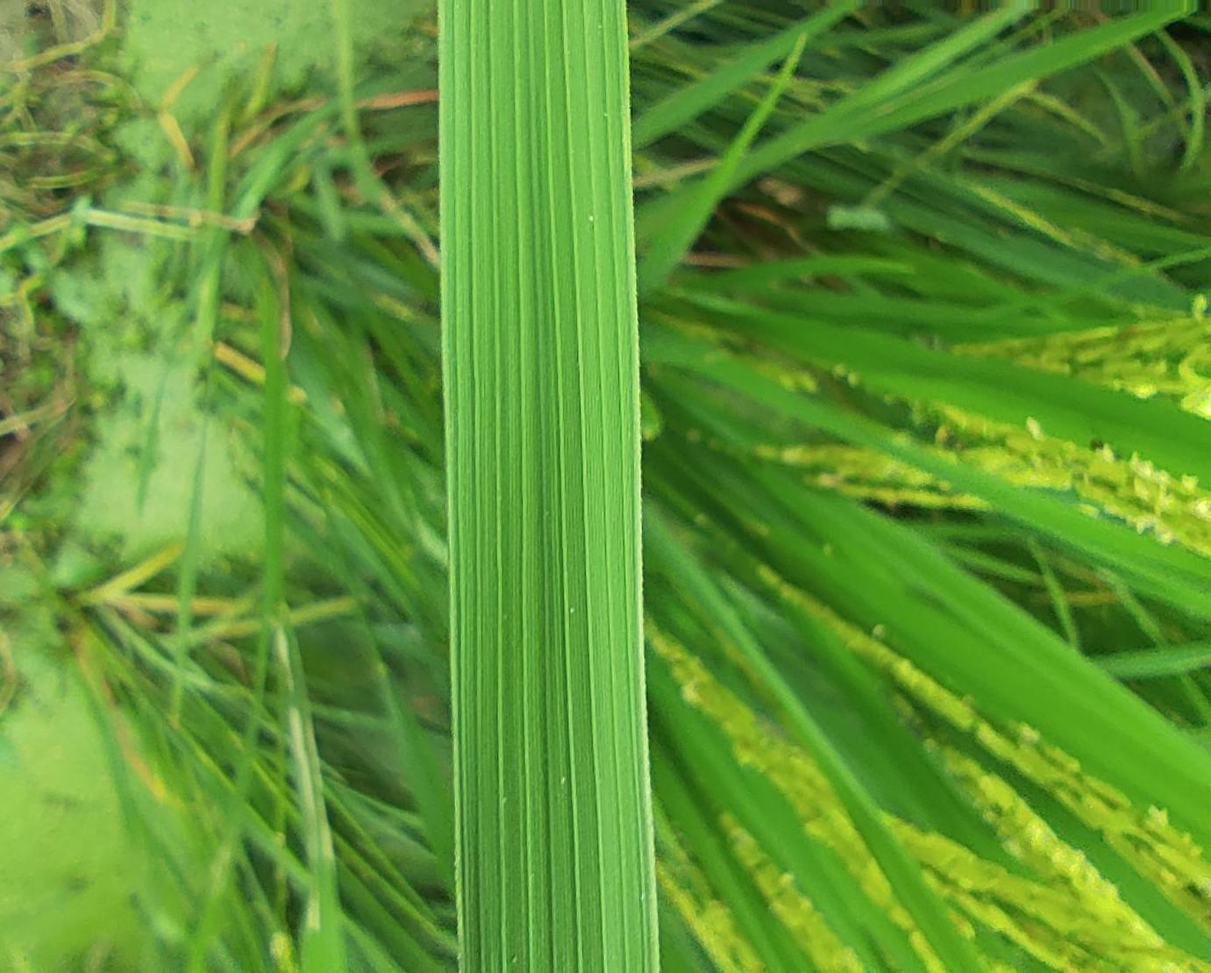Healthy: (441, 0, 659, 972)
